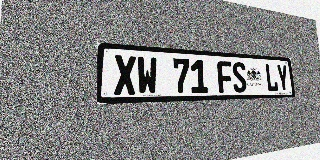1: (190, 59, 208, 93)
7: (172, 58, 191, 94)
F: (217, 61, 233, 93)
L: (264, 64, 278, 92)
S: (231, 62, 247, 93)
W: (136, 56, 158, 95)
X: (114, 55, 136, 95)
Y: (276, 64, 289, 92)
